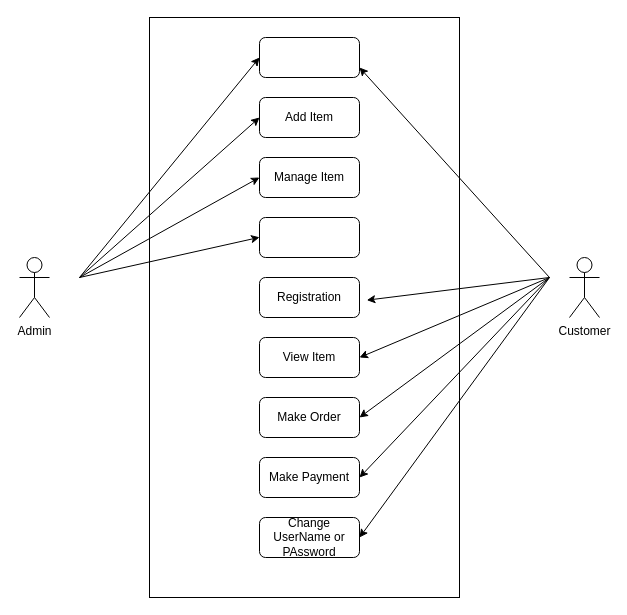
This 627x615 diagram has some shape labels left out. Here are the shapes that lost their labels. From the top down, the centre of each, then its label:
[309,57]: Login
[309,237]: Manage Order
